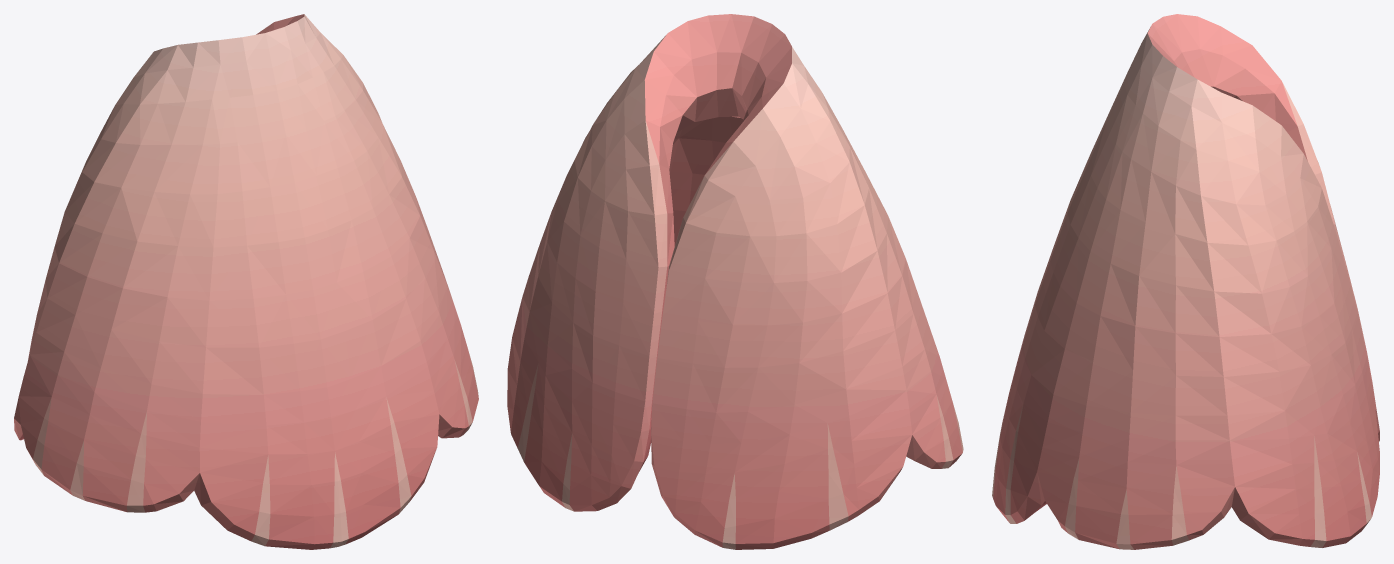
Rendered from CharSkyKid_Wing_AP07Shell_01.glb.
The picture shows the model from 3 angles, left to right: view 1: azimuth 30°, elevation 25°; view 2: azimuth 150°, elevation 25°; view 3: azimuth 270°, elevation 25°; orthographic projection. The views are drawn at different scales.
Visible parts, largest first — view 1: CharSkyKid_Wing_AP07Shell_01; view 2: CharSkyKid_Wing_AP07Shell_01; view 3: CharSkyKid_Wing_AP07Shell_01.
Part boxes in pixels (left/top/right/bottom): CharSkyKid_Wing_AP07Shell_01: left=14, top=14, right=478, bottom=549; CharSkyKid_Wing_AP07Shell_01: left=507, top=14, right=963, bottom=549; CharSkyKid_Wing_AP07Shell_01: left=992, top=14, right=1379, bottom=549.
Bounding box in the file's own units: 6.86 × 7.05 × 5.27.
Materials: 1 (1 with a texture image).
